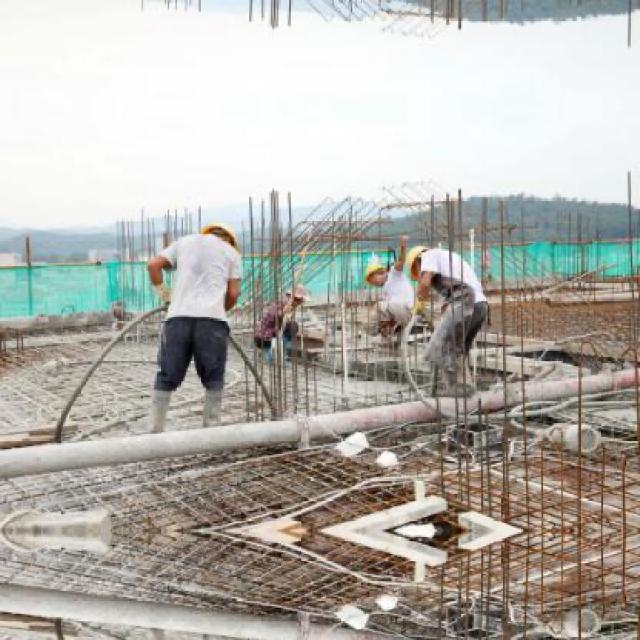helmet: (200, 218, 238, 252), (404, 240, 434, 282), (285, 282, 309, 308), (363, 260, 389, 283)
